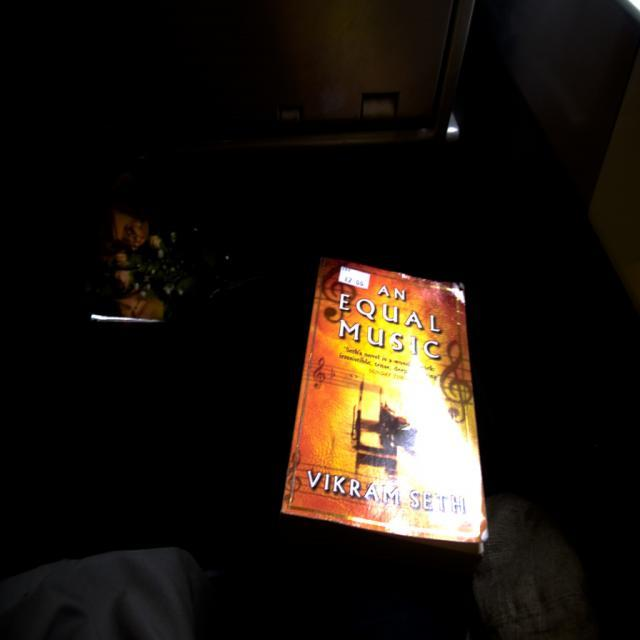book: (278, 235, 491, 566)
